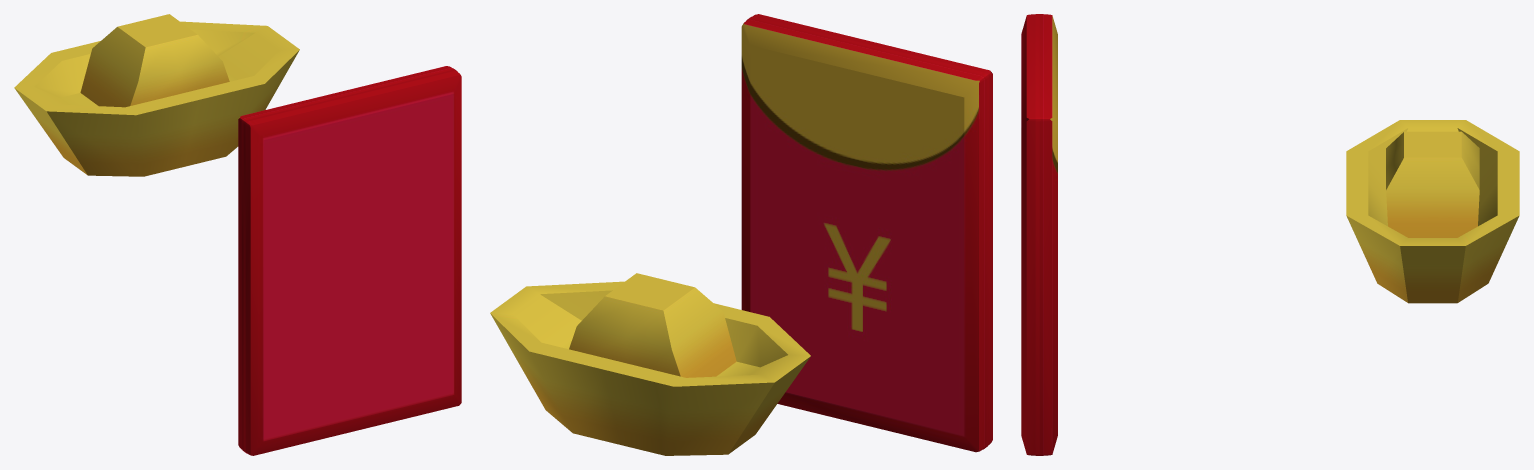
The model's file is gift3.glb.
3 renders of one model, left to right at view 1: azimuth 30°, elevation 25°; view 2: azimuth 150°, elevation 25°; view 3: azimuth 270°, elevation 25°, orthographic. The views are drawn at different scales.
Visible parts, largest first — view 1: hb, yb; view 2: hb, yb; view 3: yb, hb.
Part boxes in pixels (bbox=[...]): hb: bbox=[238, 66, 461, 455]; yb: bbox=[14, 14, 299, 176]; hb: bbox=[741, 14, 992, 452]; yb: bbox=[490, 273, 810, 455]; yb: bbox=[1346, 120, 1519, 303]; hb: bbox=[1021, 14, 1057, 455].
Size of the model in its own units: 0.7236 by 0.907 by 1.21.
1 material, 1 textured.
